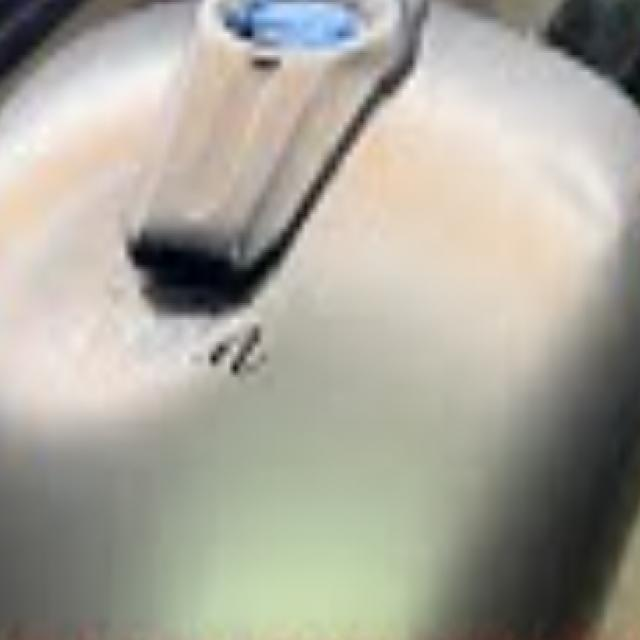dents: (517, 145, 620, 238)
